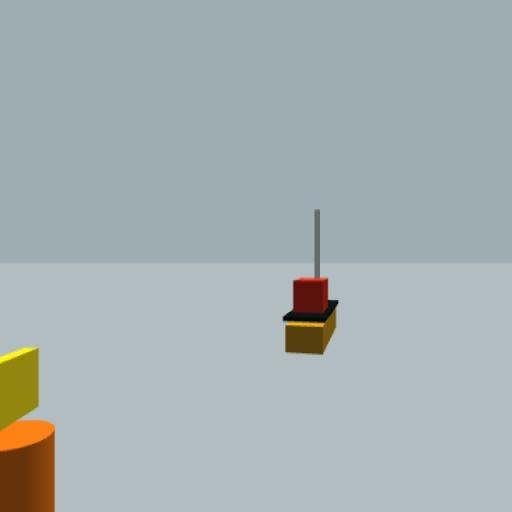vessel: (282, 208, 340, 358)
